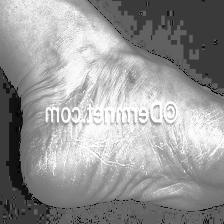Toxin: (58, 82, 100, 106), (125, 60, 144, 86)
